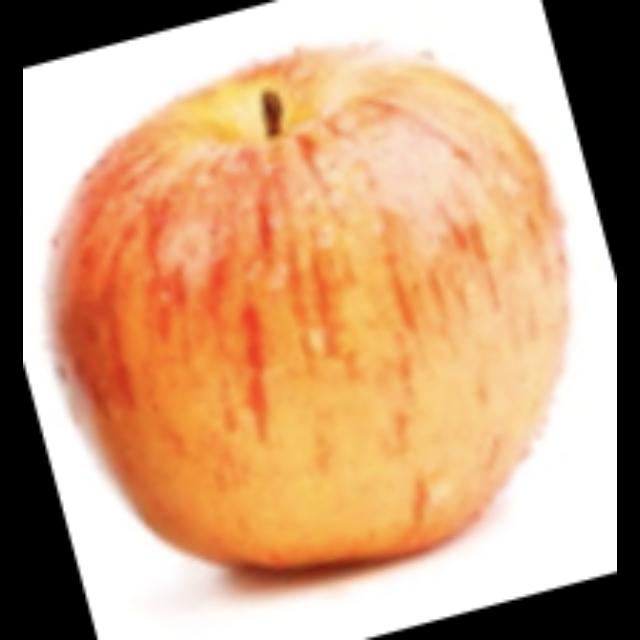Apel Segar: (46, 43, 569, 574)
